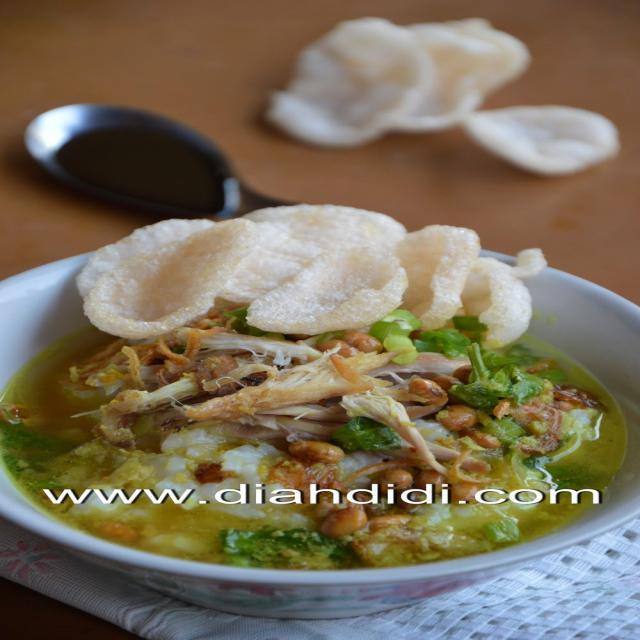bubur ayam: (0, 205, 640, 567)
mangkuk: (0, 212, 640, 622)
